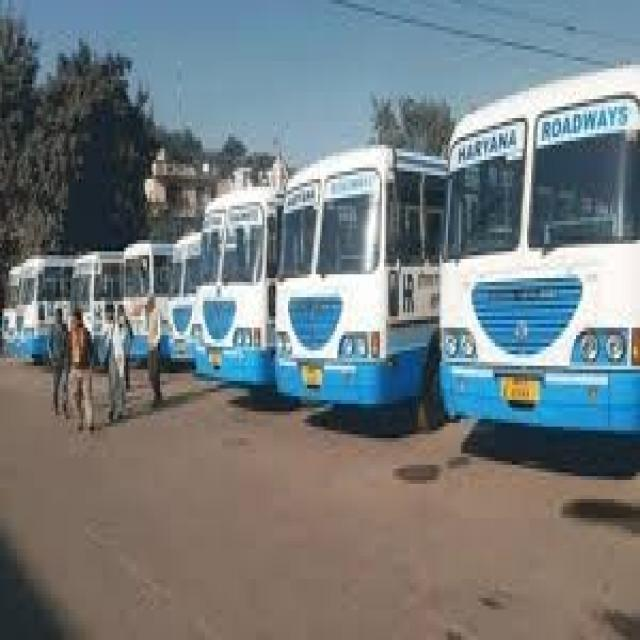bus: (432, 49, 640, 476), (276, 130, 436, 436), (190, 160, 274, 410), (119, 222, 172, 372), (66, 224, 120, 370), (17, 242, 68, 380)
